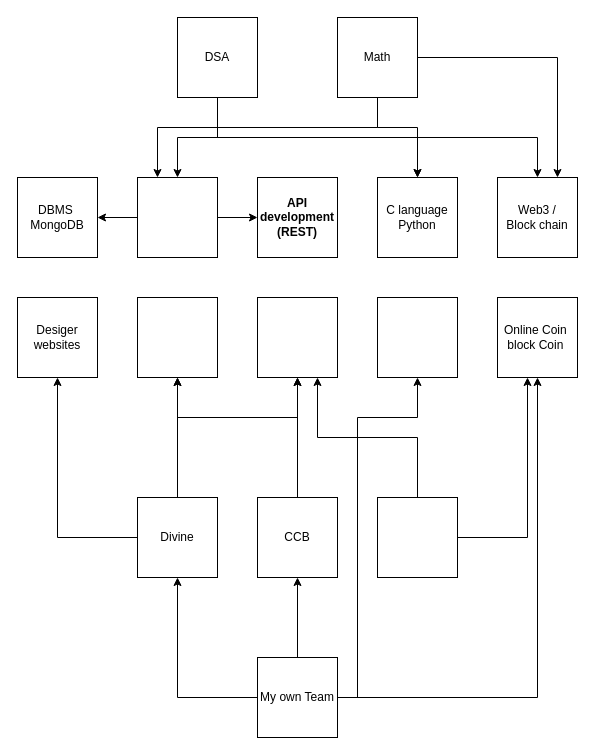
The diagram is 595 pixels wide and 755 high, and some of its shapes have lost their labels. The box of each missing label's shape, as (x1, y1, x2, y2) in pixels:
Clg: (376, 496, 458, 578)
ERP: (256, 296, 338, 378)
JavaScript Node js Express js React/Next: (136, 176, 218, 258)
Service apps: (136, 296, 218, 378)
Stock Market Programming: (376, 296, 458, 378)
